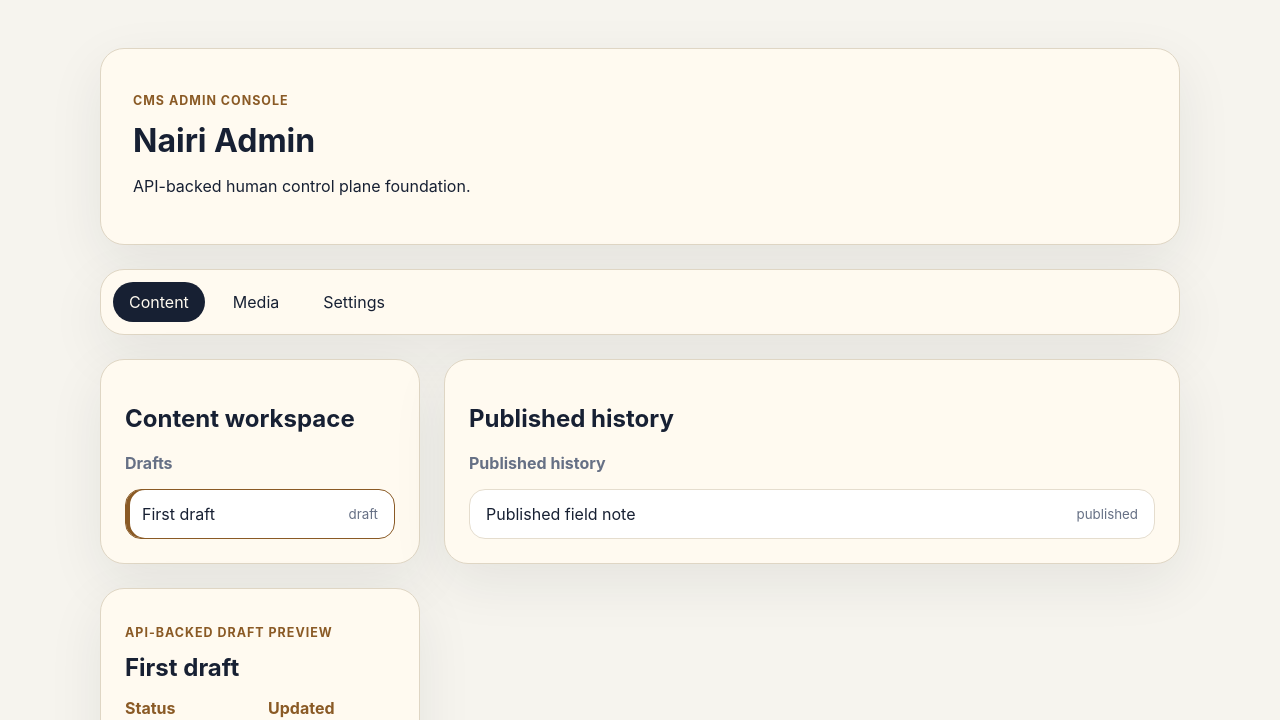
it: Nairi admin console shell › renders published history through a separate injected list without changing the draft list label
Expected: the navigation bar named "Draft posts" is shown, [100, 359, 420, 564]
Expected: the text "Drafts" is shown, [125, 453, 173, 473]
Step 1. Click the button "Published field note published" → coordinates (561, 514), box [469, 489, 1155, 539]
(page scrolled)
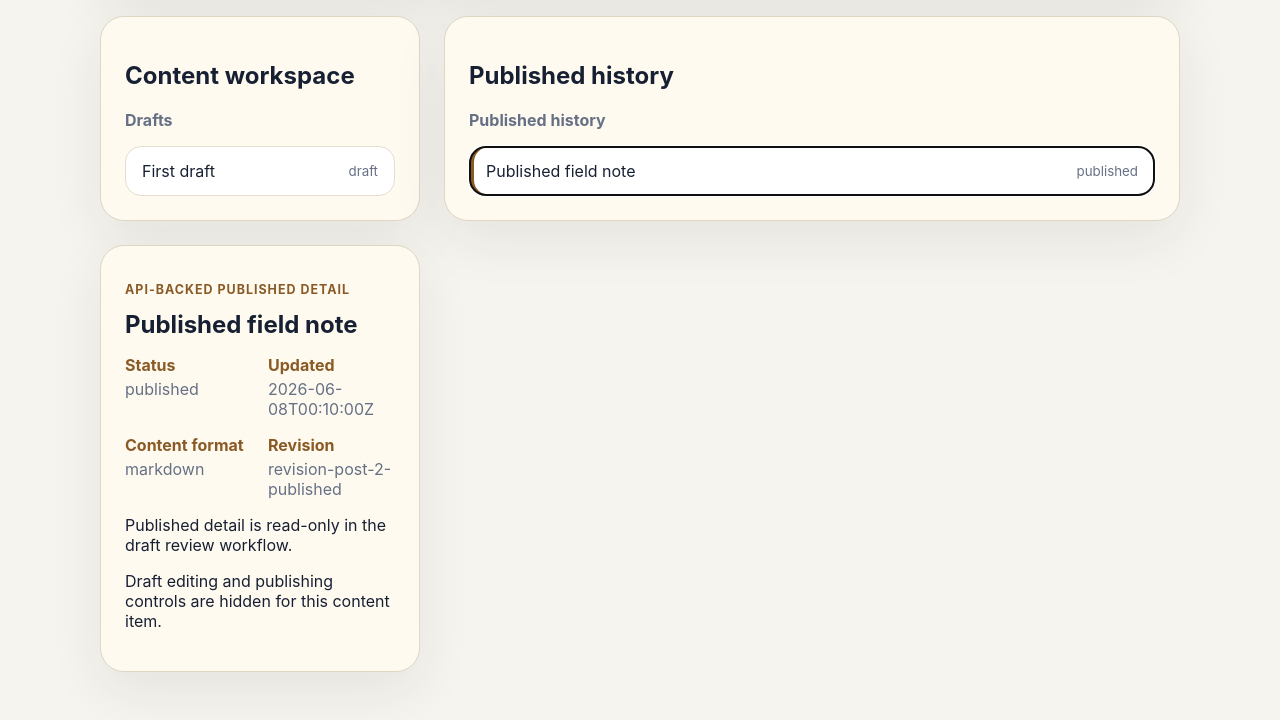
Now the text "revision-post-2-published" is shown, box [268, 459, 395, 499]
Now the text "API-backed published detail" is shown, box [125, 282, 350, 297]
Now the text "Published detail is read-only in the draft review workflow." is shown, box [125, 515, 395, 555]
